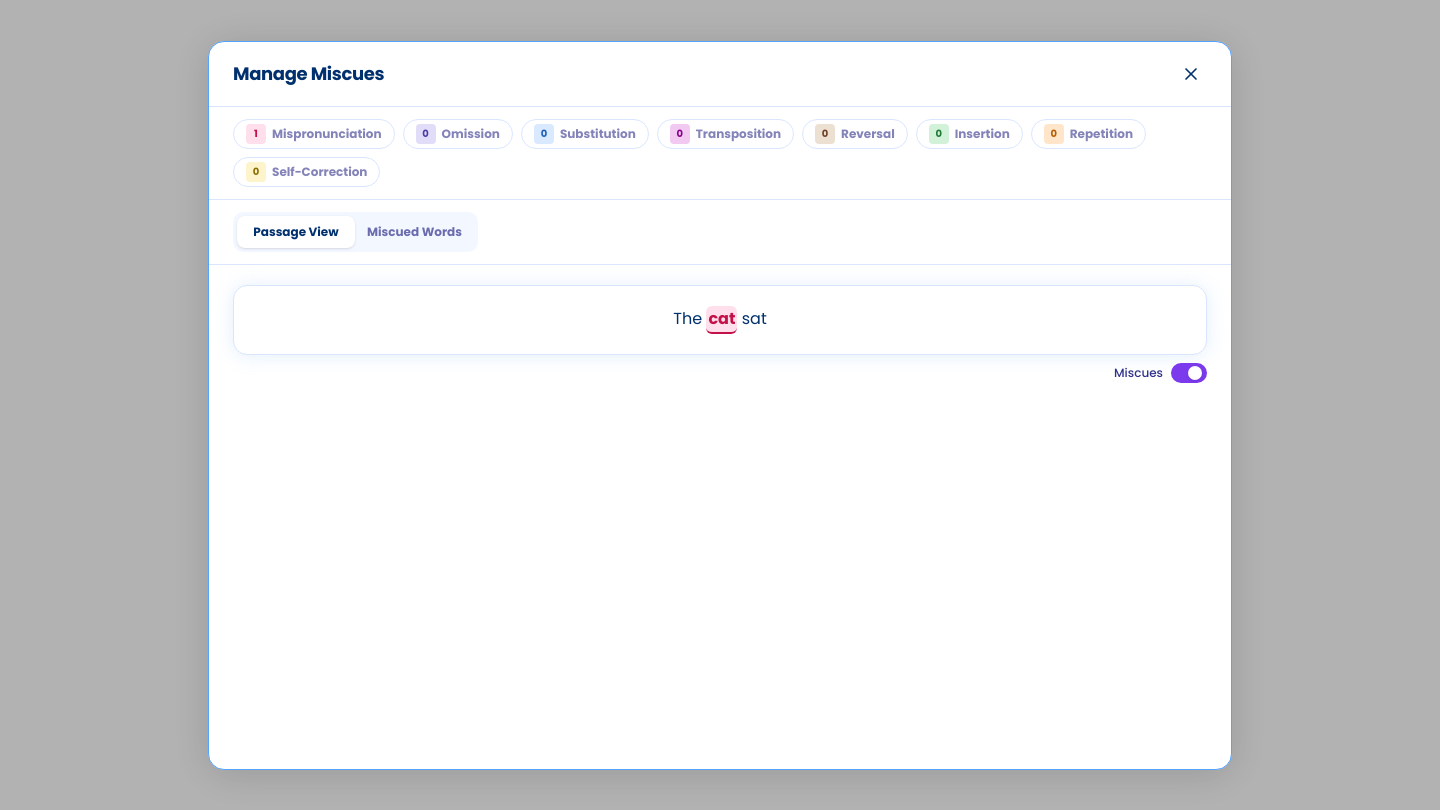
Test: ViewMiscuesModal › renders only one popup card when a miscue is clicked in passage view
Click the text "cat": click(722, 320) [706,306,737,334]
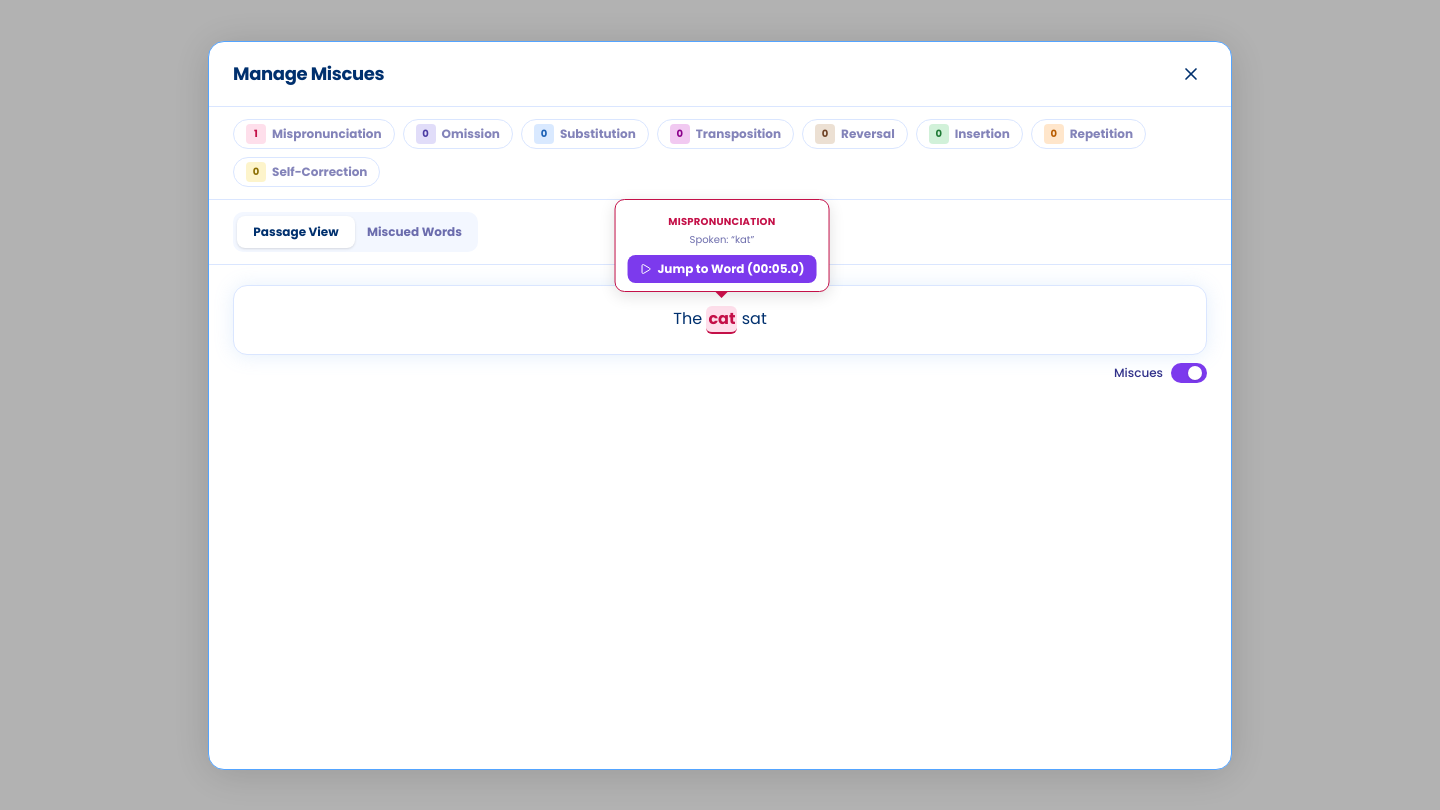
Now the text "MISPRONUNCIATION" is shown once, box [668,214,776,228]
Now the number of buttons "Jump to Word (00:05.0)" is 1, box [627,254,816,282]
